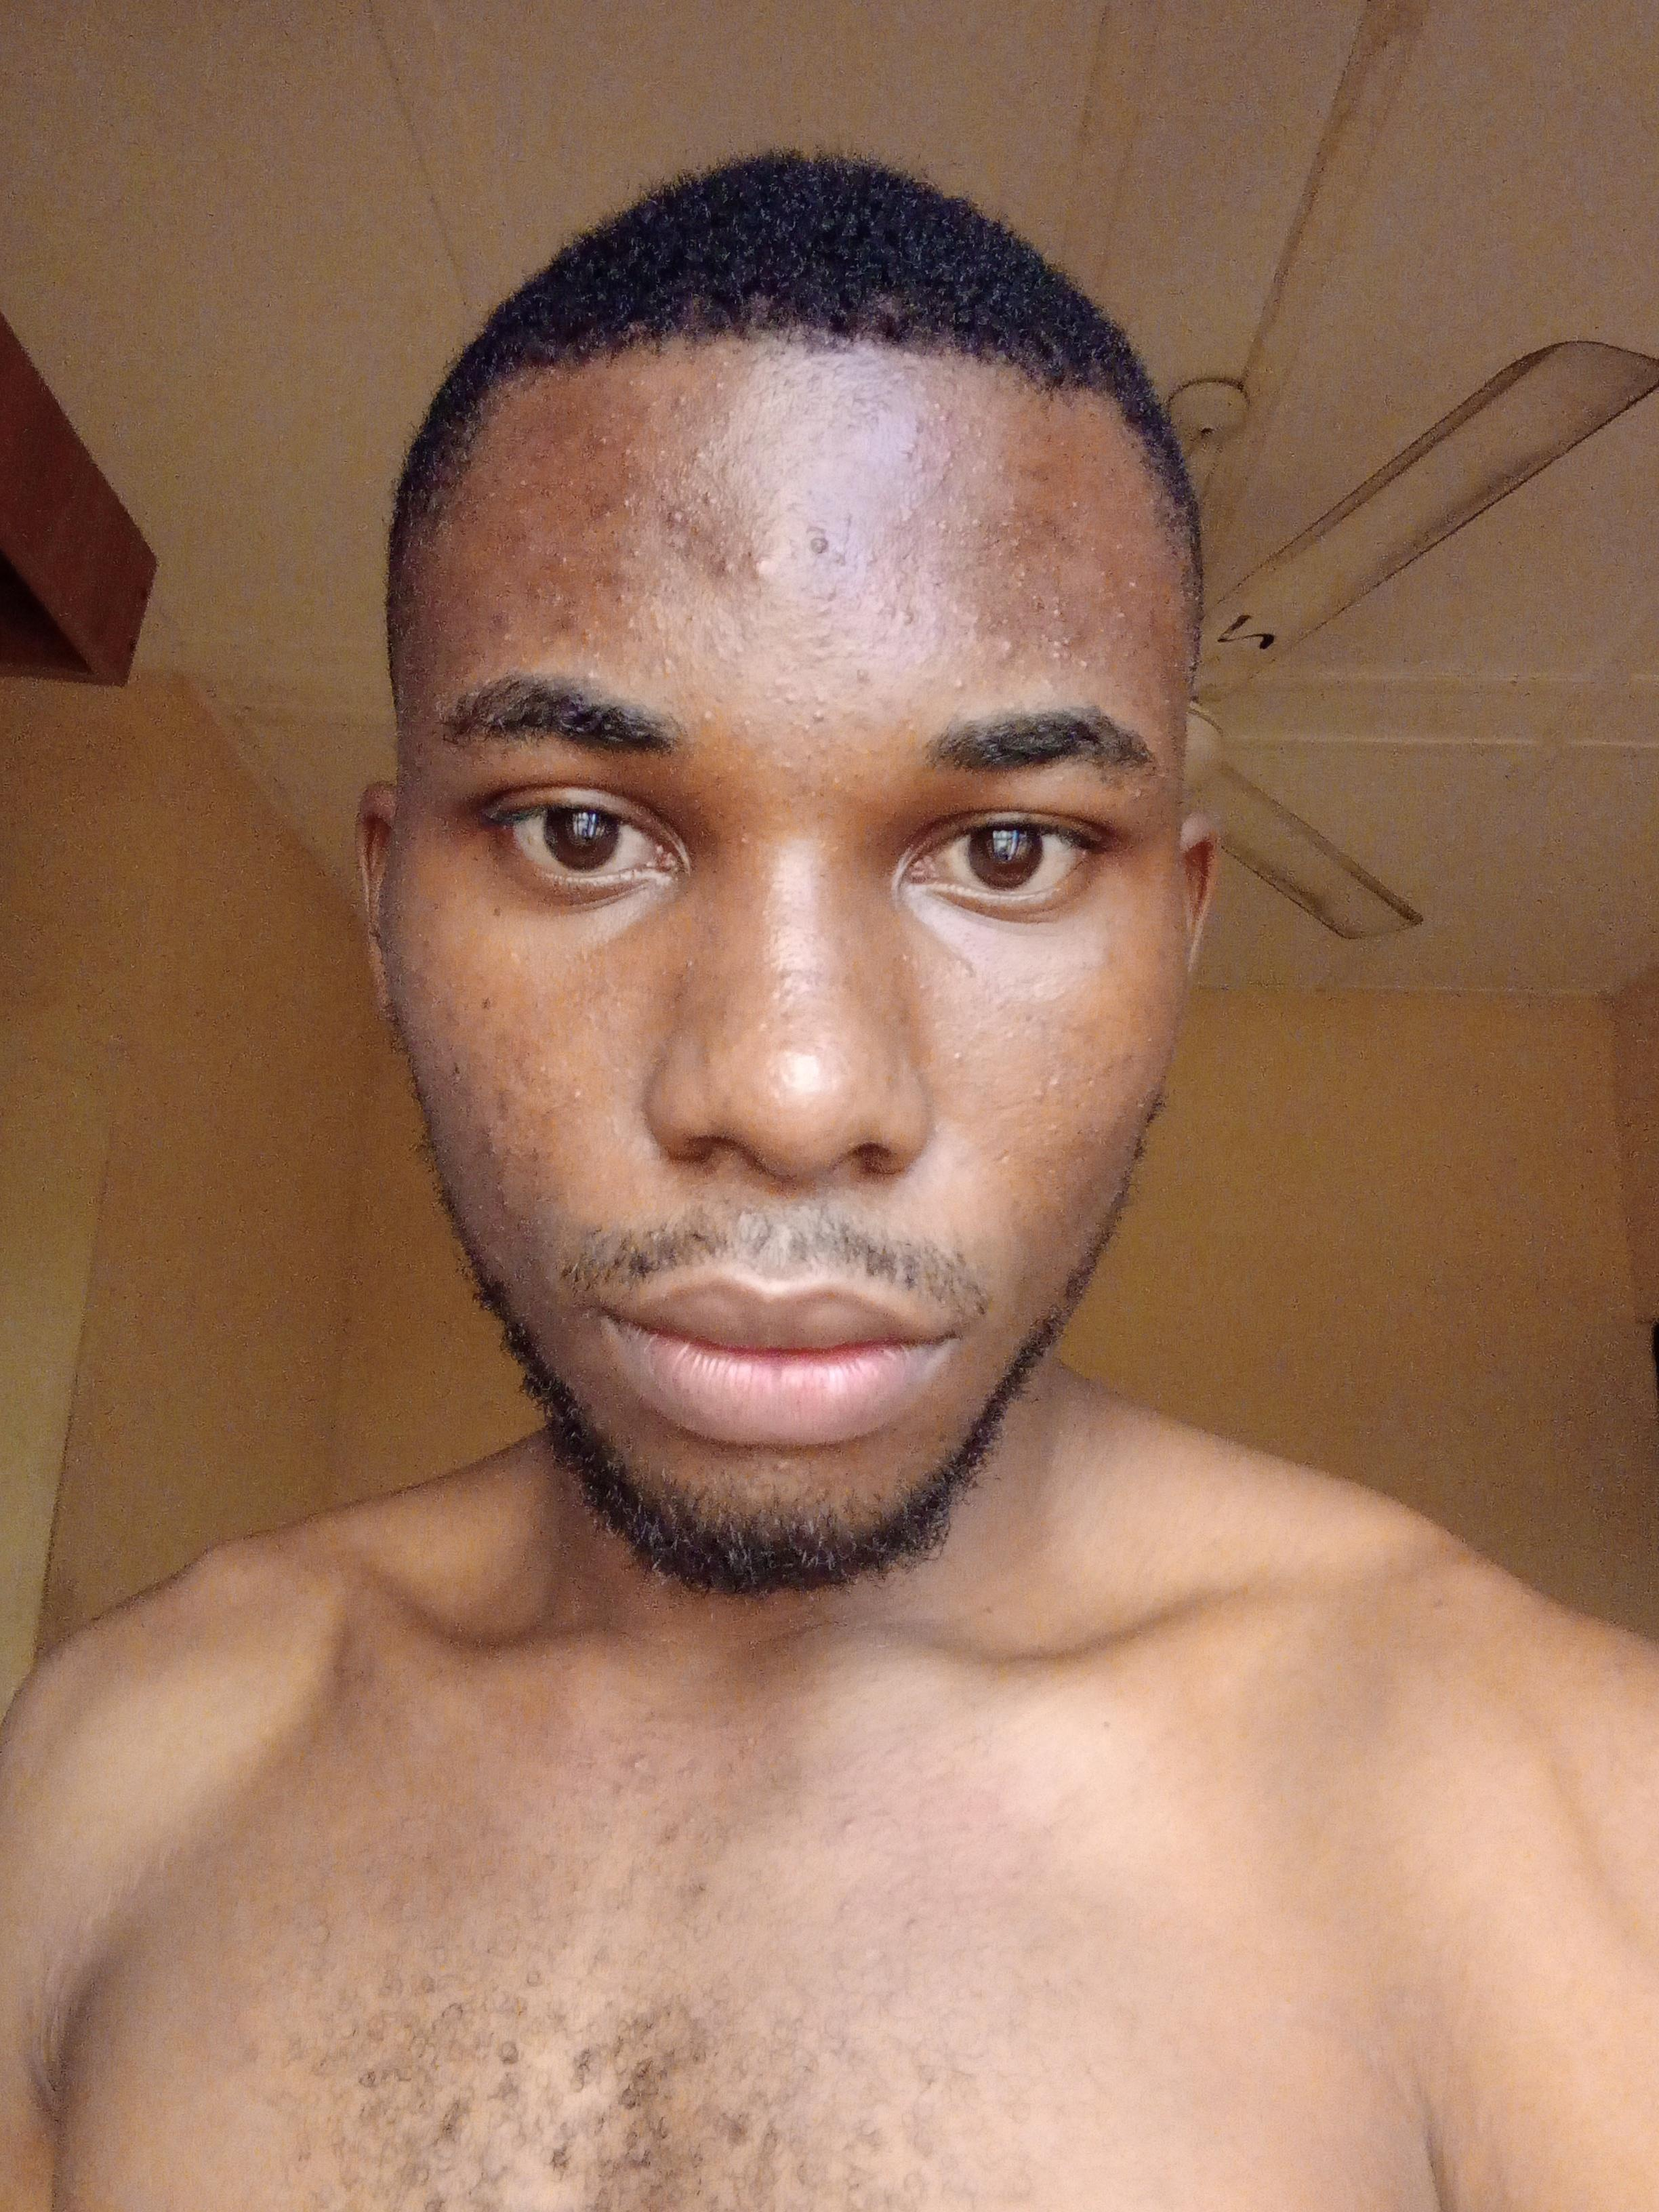Acne: (1039, 505, 1140, 639), (889, 397, 967, 491), (504, 577, 599, 653), (605, 587, 681, 679), (920, 505, 1035, 549), (587, 432, 641, 517), (782, 740, 852, 805), (678, 597, 746, 662), (934, 568, 983, 653), (1007, 561, 1073, 624), (706, 533, 777, 589), (626, 381, 728, 418), (805, 573, 843, 669), (1044, 629, 1096, 685), (866, 566, 917, 624), (532, 1057, 587, 1104), (660, 489, 725, 528), (678, 434, 725, 479), (777, 691, 833, 726), (800, 517, 836, 559), (1025, 1066, 1066, 1103), (828, 547, 875, 577), (622, 542, 653, 566), (849, 662, 875, 688), (993, 636, 1019, 660), (734, 829, 758, 853), (946, 674, 971, 691), (699, 698, 716, 719), (948, 1045, 964, 1068), (584, 664, 599, 686), (1047, 1116, 1061, 1141)
